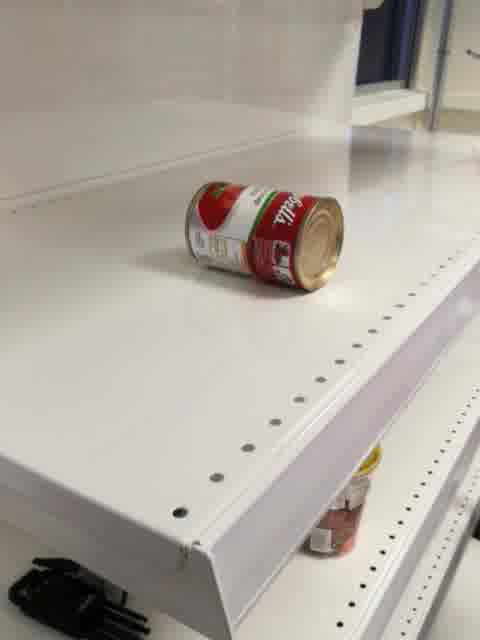tomatosoup: (183, 180, 343, 294)
